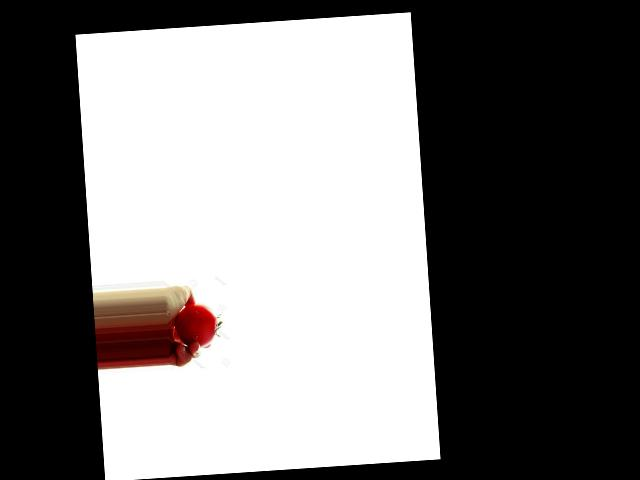tomato: (173, 303, 219, 350)
